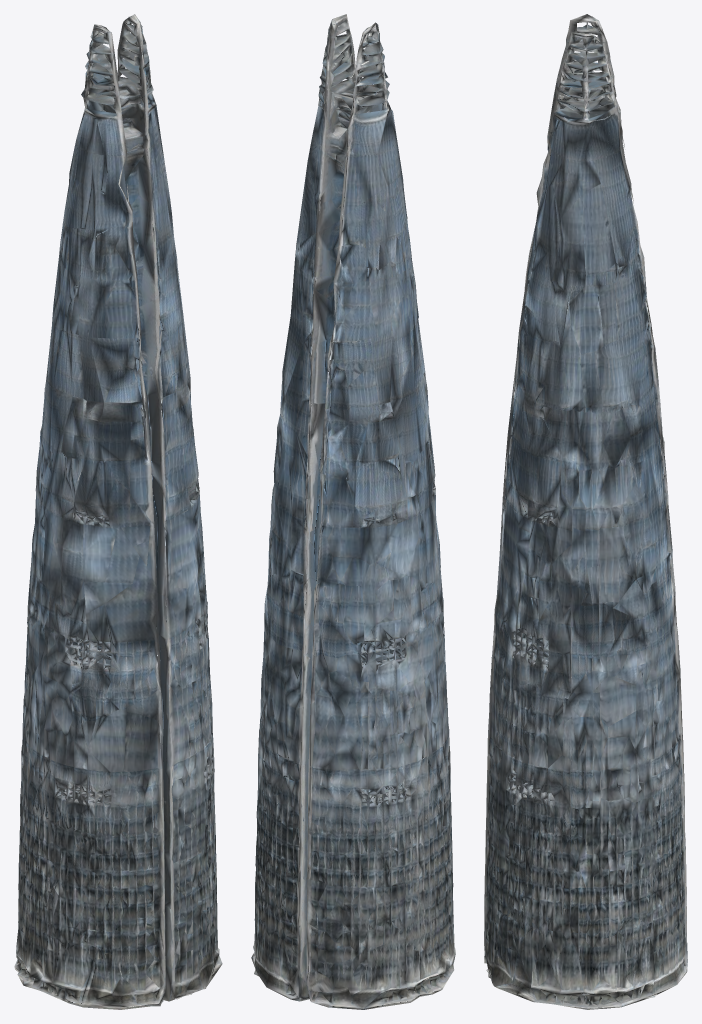
The model's file is bld_spire.glb.
3 views of the same model, side by side, from view 1: azimuth 30°, elevation 25°; view 2: azimuth 150°, elevation 25°; view 3: azimuth 270°, elevation 25° (orthographic).
Parts seen in each view (by area): view 1: bld_spire; view 2: bld_spire; view 3: bld_spire.
Part boxes in pixels (x1,y1,x2,y2): bld_spire: [14, 14, 222, 1009]; bld_spire: [251, 14, 455, 1009]; bld_spire: [484, 14, 687, 1009].
Size of the model in its own units: 0.3817 by 1.9 by 0.3723.
Materials: 1 (1 with a texture image).
